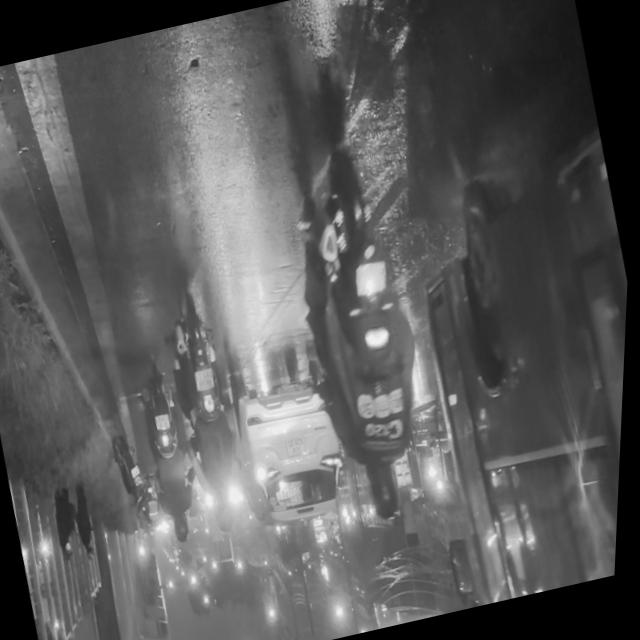helmet: (367, 462, 412, 526)
licenseplate: (262, 142, 462, 536), (148, 284, 266, 540)
nohelmet: (354, 260, 393, 298), (195, 366, 218, 390)
